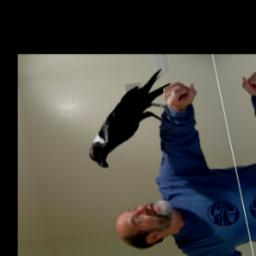Crow: (70, 66, 186, 171)
